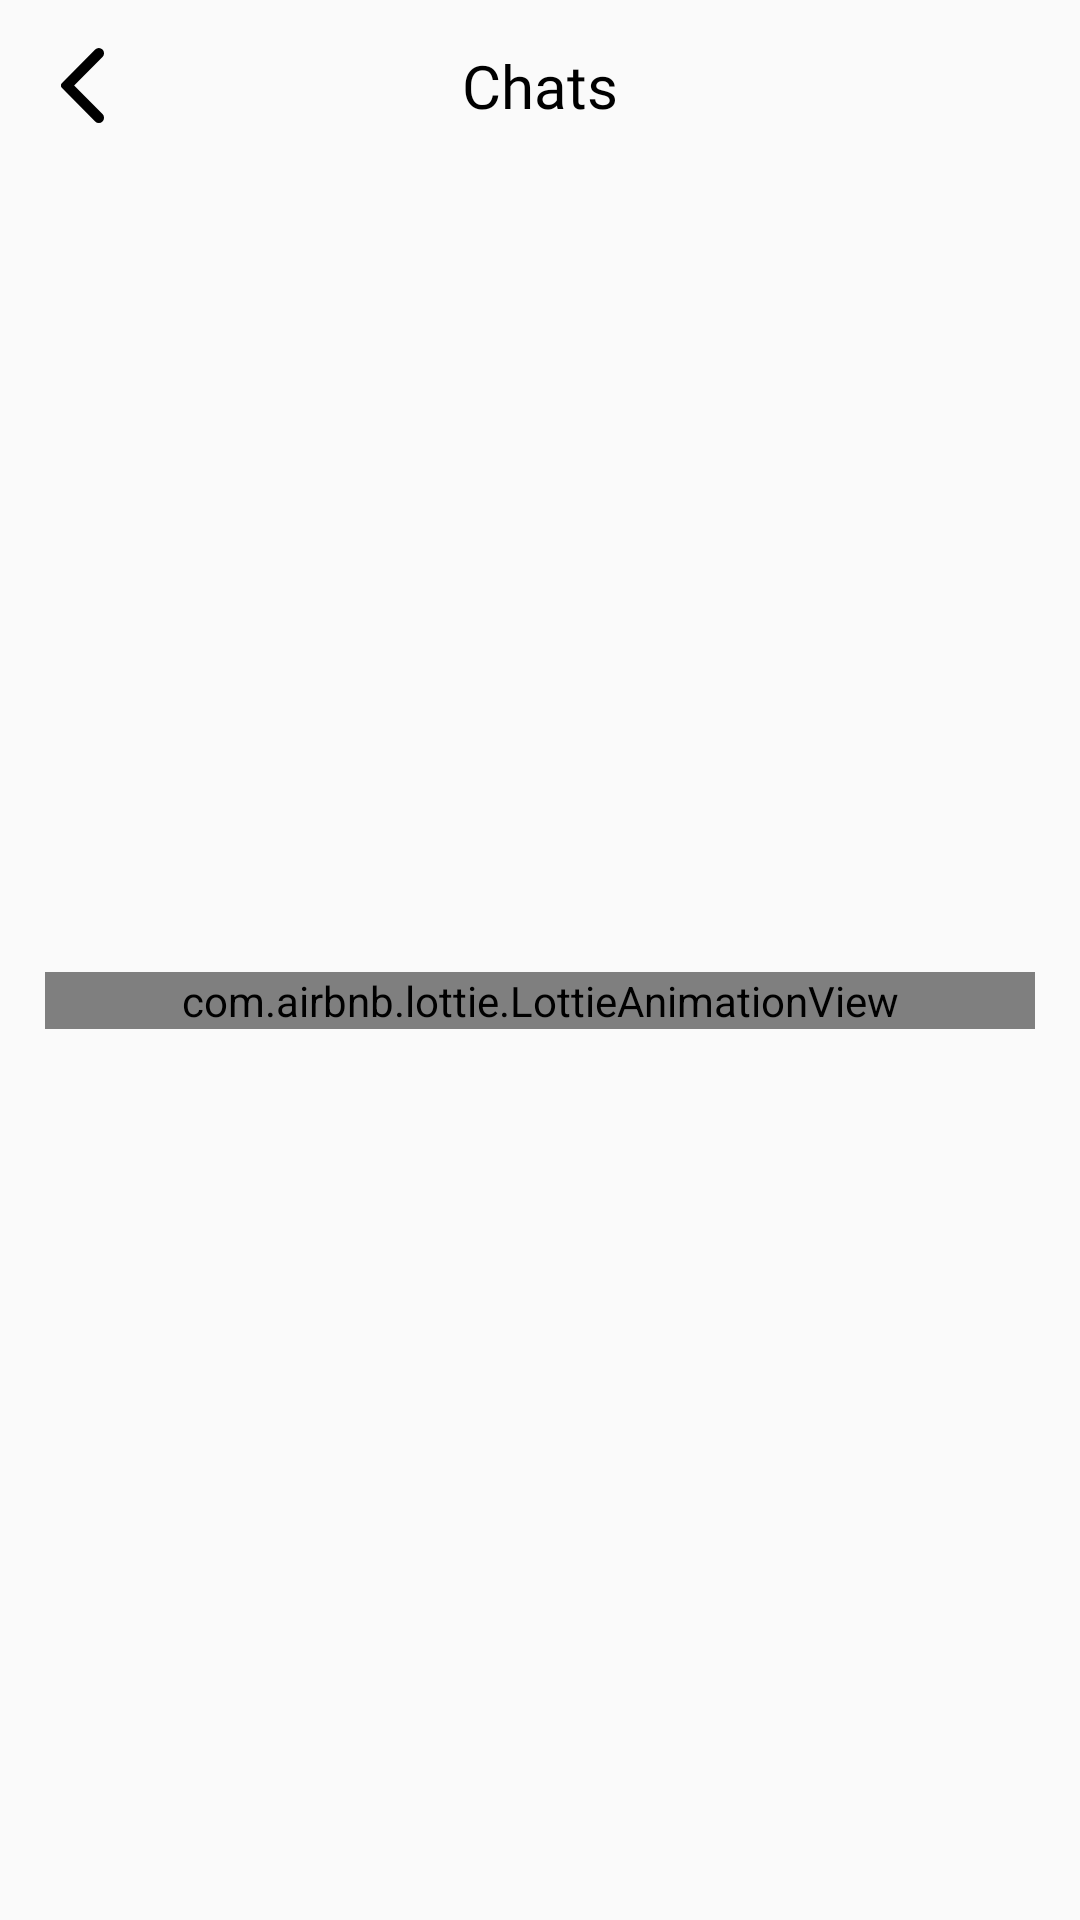

Icons on this 1080 × 1920 Android screen, each with the point to tap as (x=x, y=y):
back: (x=82, y=85)
